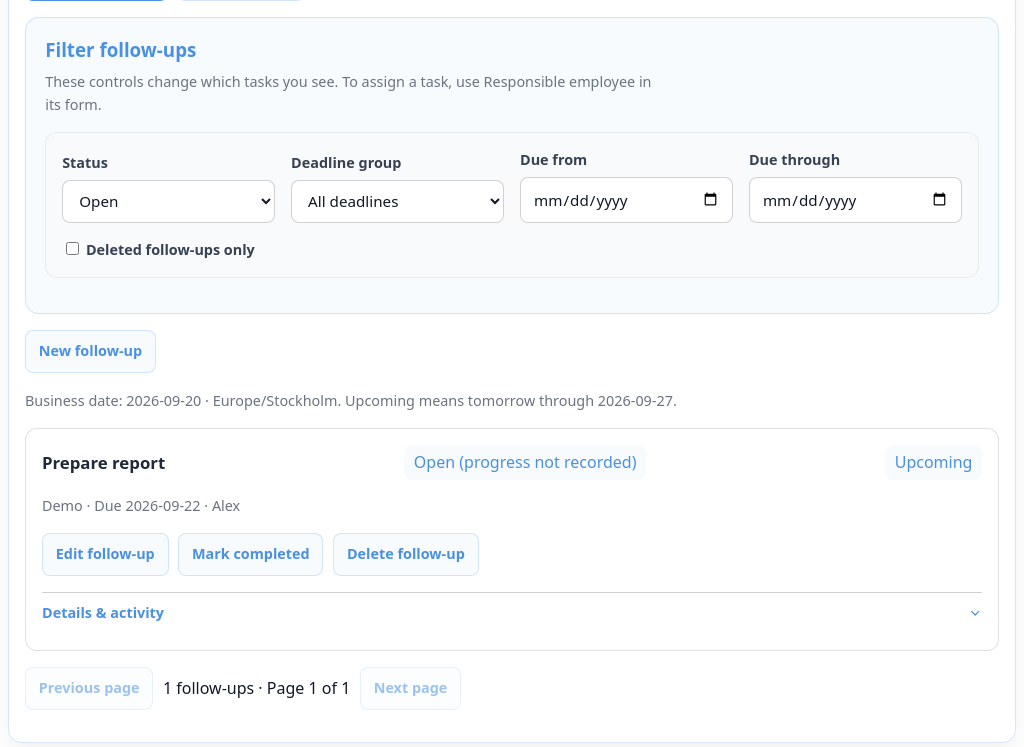
Scenario: stale action reloads without retry
(page scrolled)
Click the button "Mark completed" at (251, 554), box [178,533,324,576]
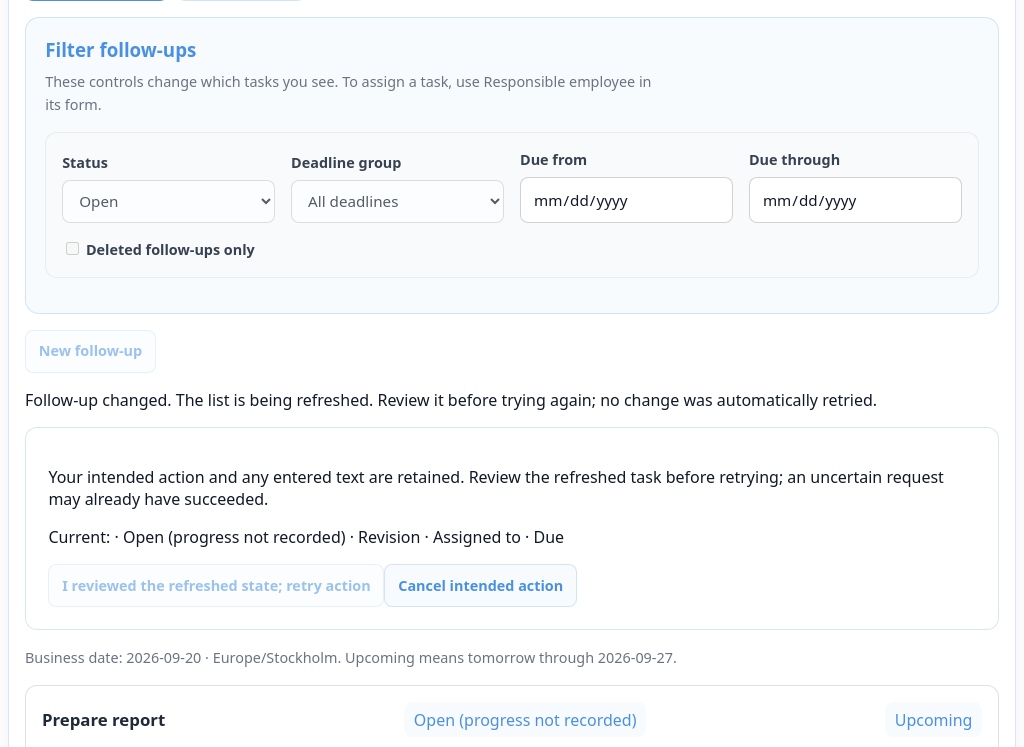
Result: the text "no change was automatically retried" is shown at [25,389,877,411]
